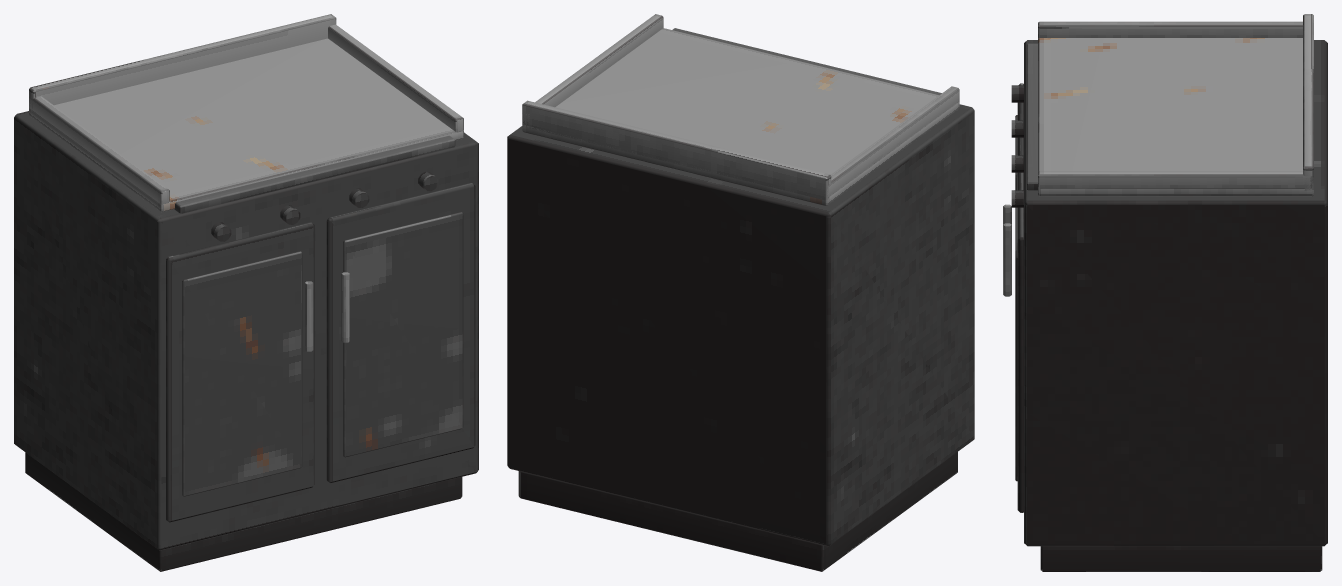
File: griddle_cab.glb
The picture shows the model from 3 angles, left to right: view 1: azimuth 30°, elevation 25°; view 2: azimuth 150°, elevation 25°; view 3: azimuth 270°, elevation 25°; orthographic projection. The views are drawn at different scales.
Visible parts, largest first — view 1: mesh; view 2: mesh; view 3: mesh.
Part boxes in pixels (box(x1,y1,x2,y2)): mesh: box(14, 14, 478, 571); mesh: box(507, 14, 974, 571); mesh: box(1003, 14, 1327, 571).
Bounding box in the file's own units: 0.7 × 0.81 × 0.588.
1 material, 1 textured.
